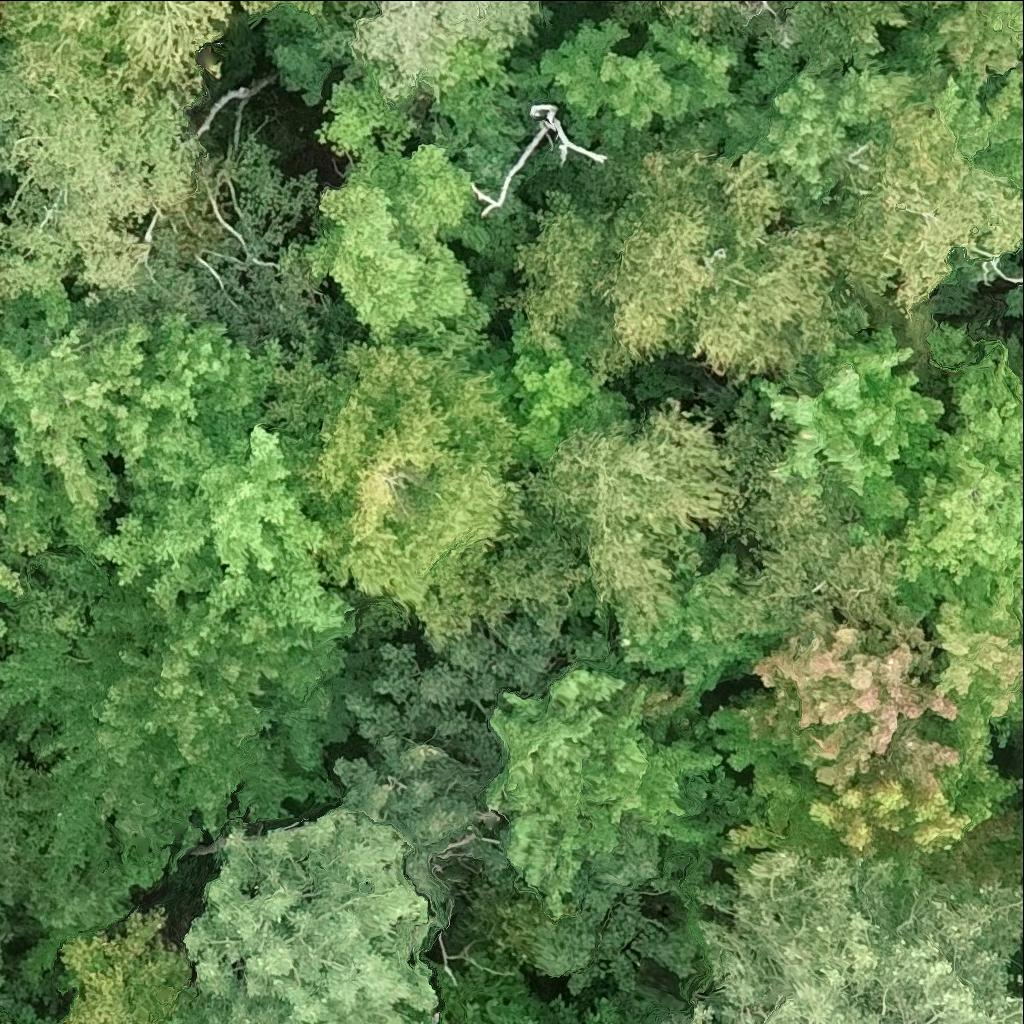crown: (334, 603, 700, 992), (0, 535, 371, 887), (0, 268, 276, 553), (485, 666, 725, 917), (103, 409, 354, 649), (516, 145, 793, 359), (751, 602, 1023, 817), (167, 810, 436, 1023), (686, 857, 1023, 1023), (511, 395, 744, 635), (312, 342, 523, 607), (302, 65, 490, 355), (674, 0, 917, 223), (0, 65, 202, 308), (721, 768, 1023, 916), (823, 98, 1023, 306), (887, 332, 1023, 626), (749, 331, 944, 521), (723, 478, 902, 649), (536, 14, 737, 147), (685, 221, 842, 384), (352, 0, 541, 106), (58, 909, 194, 1023), (930, 0, 1023, 87), (227, 0, 379, 33), (661, 0, 738, 31), (0, 531, 18, 642), (0, 428, 12, 474), (1019, 973, 1023, 981), (3, 1023, 4, 1023)
